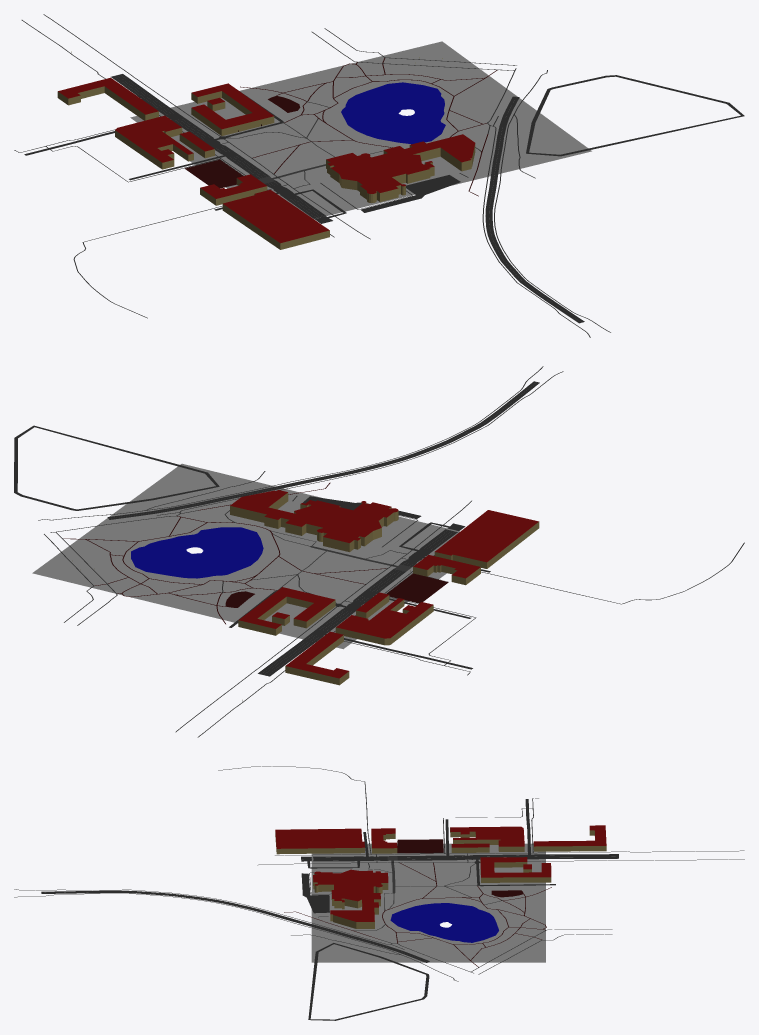
File: sorsapuisto.obj
The picture shows the model from 3 angles, top to bottom: view 1: azimuth 30°, elevation 25°; view 2: azimuth 150°, elevation 25°; view 3: azimuth 270°, elevation 25°; orthographic projection. The views are drawn at different scales.
Visible parts, largest first — view 1: SurfaceArea495, SurfaceArea496, Building Tampere-talo, Water Sorsalampi, Building485, Building489, Building493, Road Yliopistonkatu, Road Viinikankatu, Building Attila, Road Sorsapuiston urheilukenttä, Building488 (+2 smaller); view 2: SurfaceArea495, SurfaceArea496, Building Tampere-talo, Water Sorsalampi, Building485, Building489, Building493, Road Viinikankatu, Road Yliopistonkatu, Building Attila, Road Sorsapuiston urheilukenttä, Building488 (+1 smaller); view 3: SurfaceArea495, SurfaceArea496, Building Tampere-talo, Water Sorsalampi, Building485, Building489, Building493, Road Viinikankatu, Road Yliopistonkatu, Building Attila, Road Sorsapuiston urheilukenttä, SurfaceArea492 (+2 smaller).
Boxes of the visible parts, box(x1,y1,x2,y2) form: SurfaceArea495: box(130, 54, 539, 218); SurfaceArea496: box(390, 41, 591, 163); Building Tampere-talo: box(326, 134, 475, 203); Water Sorsalampi: box(341, 82, 445, 144); Building485: box(222, 189, 329, 249); Building489: box(115, 115, 193, 169); Building493: box(191, 83, 274, 135); Road Yliopistonkatu: box(111, 74, 332, 223); Road Viinikankatu: box(485, 96, 584, 323); Building Attila: box(57, 77, 158, 120); Road Sorsapuiston urheilukenttä: box(526, 75, 744, 156); Building488: box(200, 174, 267, 205); SurfaceArea495: box(84, 476, 459, 649); SurfaceArea496: box(32, 463, 233, 585); Building Tampere-talo: box(230, 490, 398, 552); Water Sorsalampi: box(131, 527, 263, 578); Building485: box(434, 510, 539, 568); Building489: box(335, 598, 433, 645); Building493: box(238, 587, 335, 635); Road Viinikankatu: box(107, 381, 539, 519); Road Yliopistonkatu: box(258, 523, 465, 676); Building Attila: box(285, 631, 349, 685); Road Sorsapuiston urheilukenttä: box(14, 425, 219, 510); Building488: box(413, 555, 480, 585); SurfaceArea495: box(311, 843, 545, 942); SurfaceArea496: box(311, 943, 545, 962); Building Tampere-talo: box(313, 869, 388, 928); Water Sorsalampi: box(390, 903, 498, 942); Building485: box(275, 828, 364, 854); Building489: box(450, 826, 524, 851); Building493: box(480, 857, 551, 882); Road Viinikankatu: box(41, 890, 429, 962); Road Yliopistonkatu: box(301, 854, 618, 861); Building Attila: box(533, 825, 606, 851); Road Sorsapuiston urheilukenttä: box(308, 943, 429, 1020); SurfaceArea492: box(397, 839, 443, 853).
Size of the model in its own units: 771 by 10 by 935.
